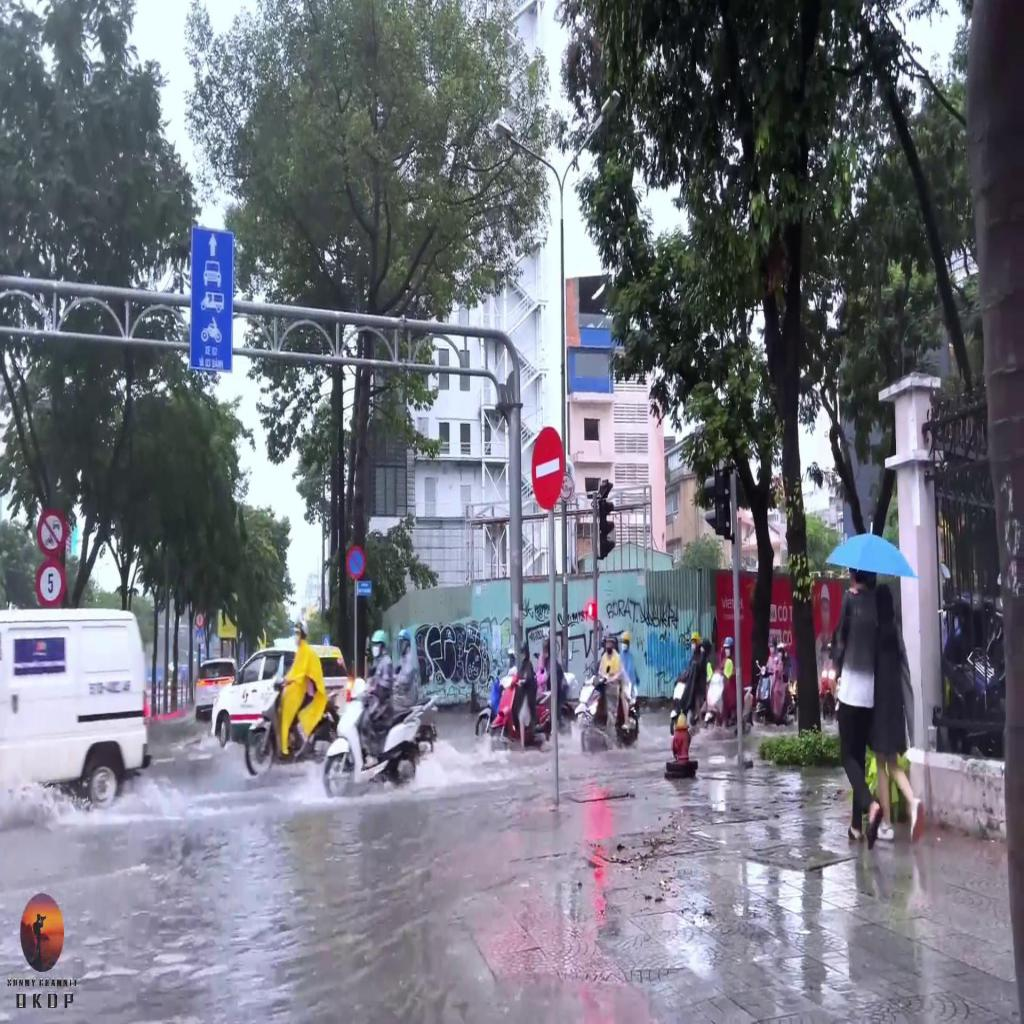cam_do_xe: (345, 546, 365, 581)
cam_xe_di_nguoc_chieu: (532, 427, 564, 508)
khac: (191, 226, 234, 372), (36, 559, 68, 606), (36, 511, 68, 558)
